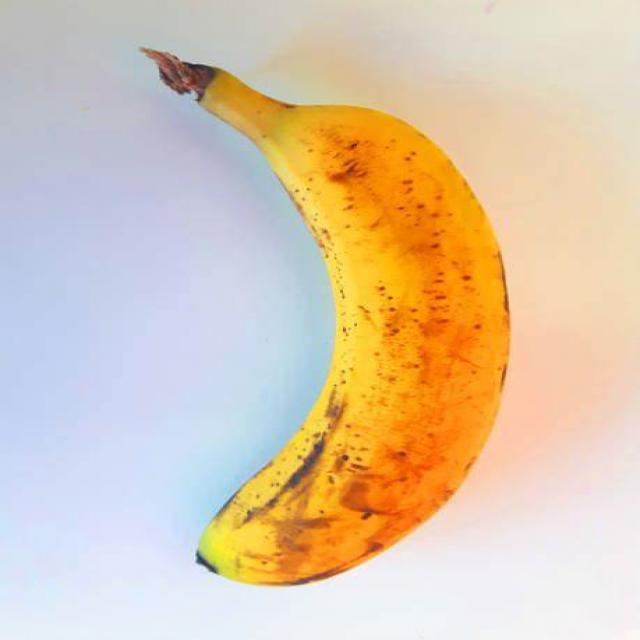Banana: (117, 48, 520, 585)
